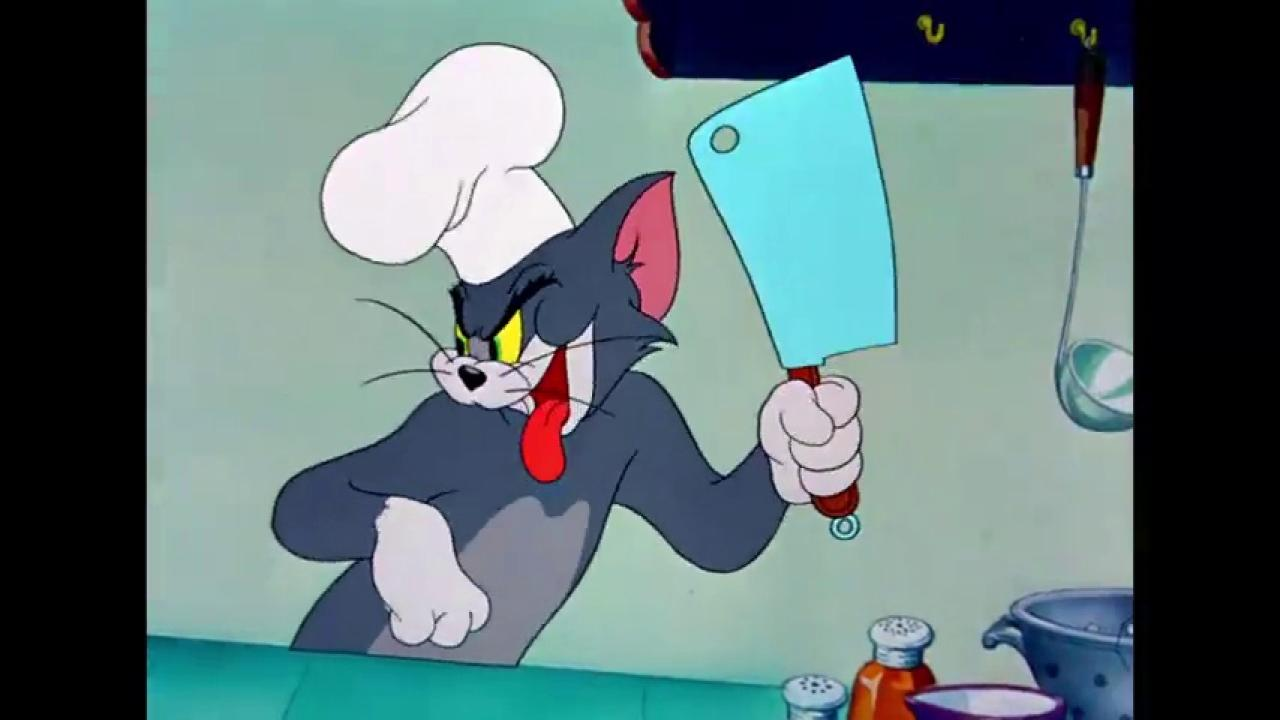Tom: (270, 168, 865, 666)
